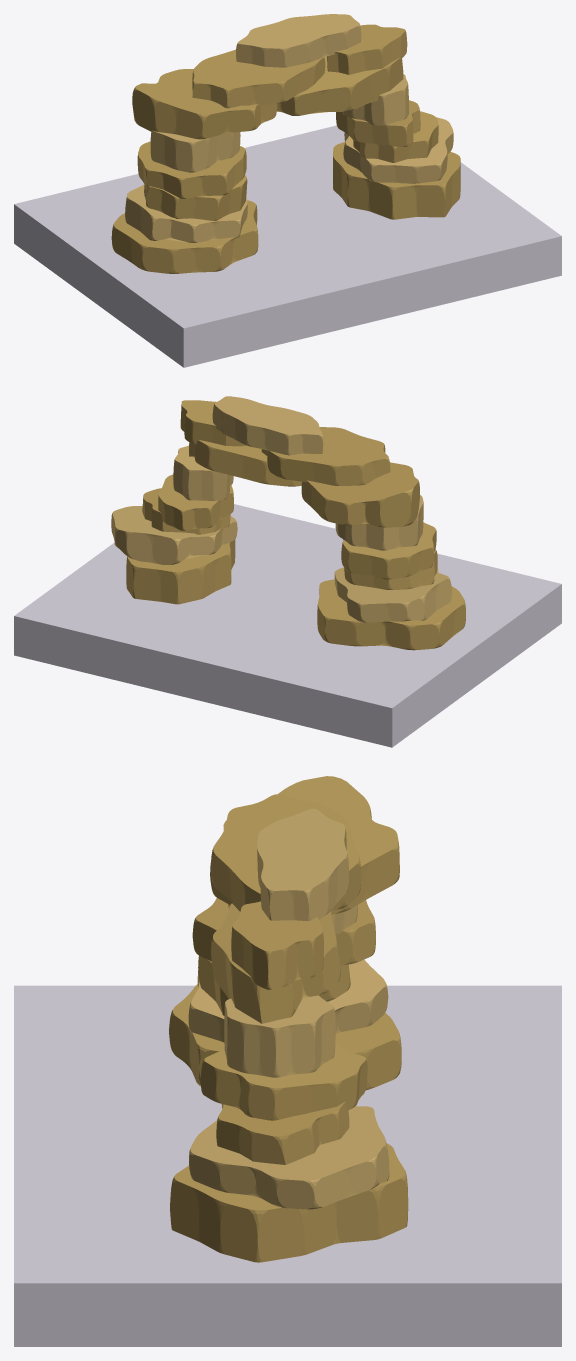
The model's file is desert_stone_gate.fbx.
3 renders of one model, top to bottom at view 1: azimuth 30°, elevation 25°; view 2: azimuth 150°, elevation 25°; view 3: azimuth 270°, elevation 25°, orthographic. The views are drawn at different scales.
Visible parts, largest first — view 1: Cube.035, stone gate; view 2: Cube.035, stone gate; view 3: Cube.035, stone gate.
Boxes of the visible parts, bbox=[...] form: Cube.035: bbox=[14, 125, 561, 367]; stone gate: bbox=[111, 14, 460, 273]; Cube.035: bbox=[14, 504, 561, 747]; stone gate: bbox=[111, 396, 465, 650]; Cube.035: bbox=[14, 985, 561, 1346]; stone gate: bbox=[169, 776, 408, 1262].
Size of the model in its own units: 244 by 138 by 190.
